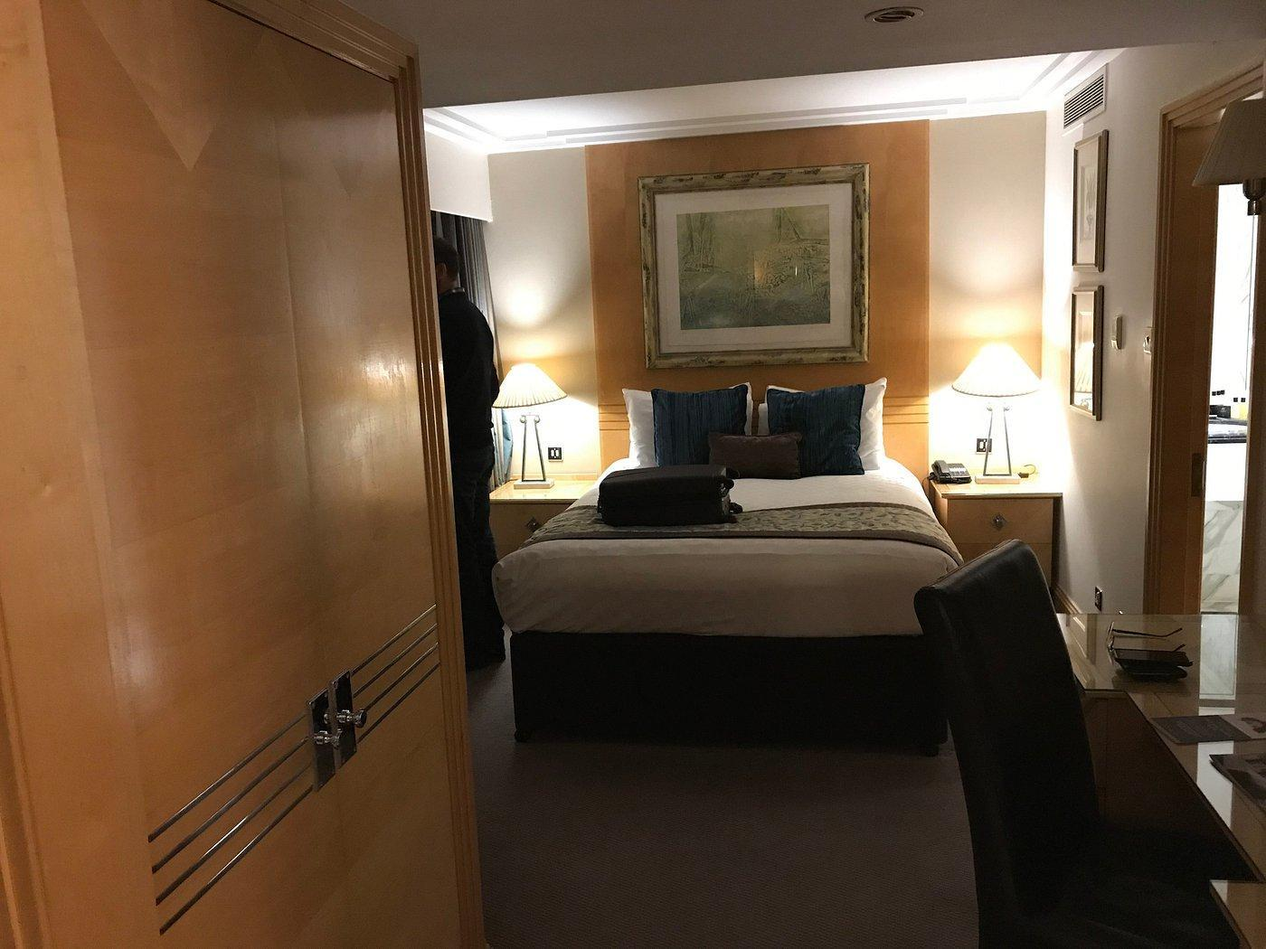chair: (909, 533, 1237, 948)
clean_bed: (491, 348, 962, 758)
lamp: (956, 339, 1057, 488), (502, 359, 574, 503)
organised_pillow: (619, 380, 891, 485)
